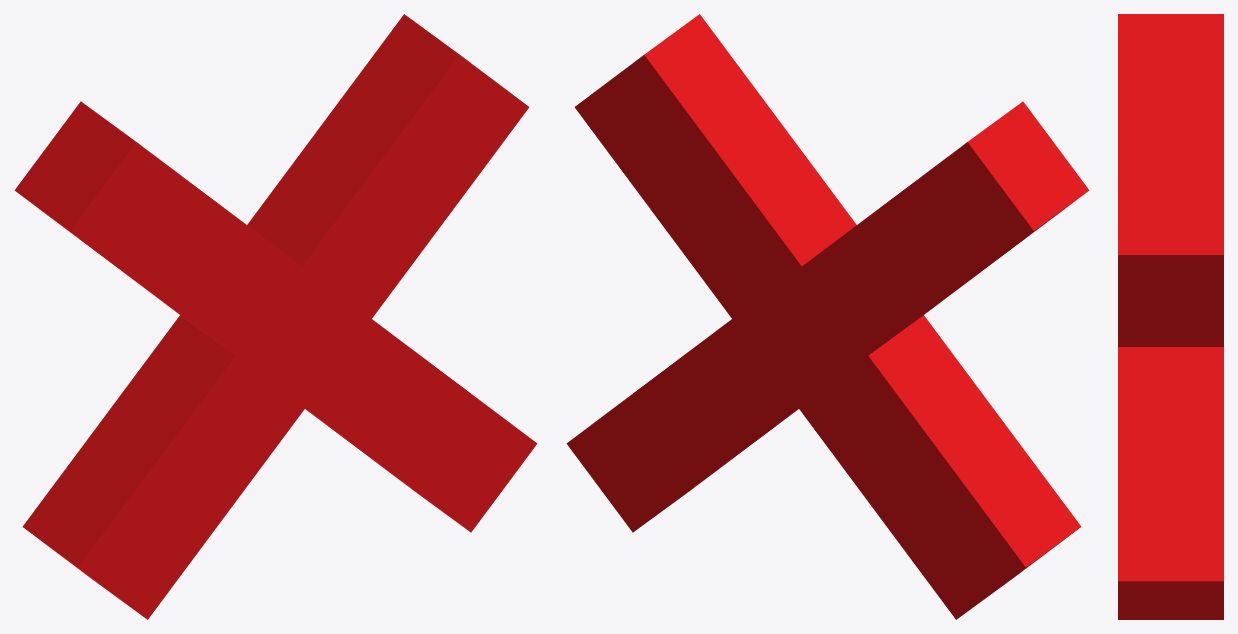
Rendered from ExitButton.fbx.
The picture shows the model from 3 angles, left to right: view 1: azimuth 30°, elevation 25°; view 2: azimuth 150°, elevation 25°; view 3: azimuth 270°, elevation 25°; orthographic projection. The views are drawn at different scales.
Visible parts, largest first — view 1: ExitButton; view 2: ExitButton; view 3: ExitButton.
Part boxes in pixels (<box>): ExitButton: <box>14,14,537,619</box>; ExitButton: <box>566,14,1089,619</box>; ExitButton: <box>1118,14,1223,619</box>.
Bounding box in the file's own units: 2.04 × 2.04 × 0.421.
